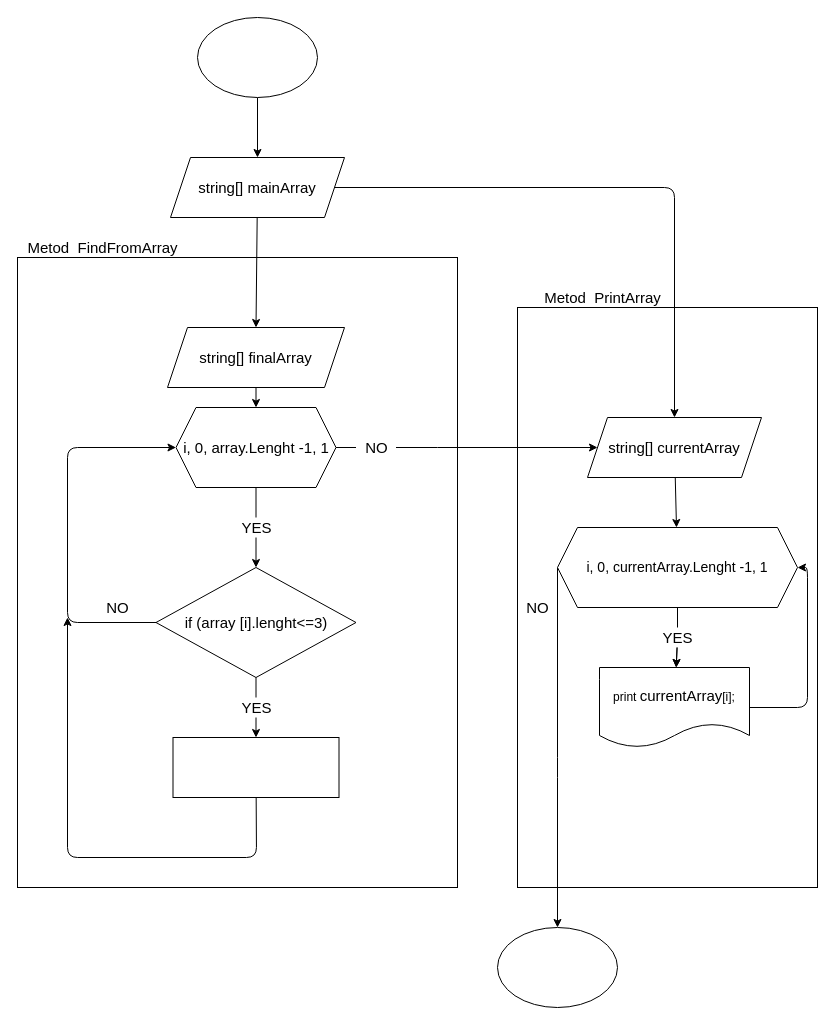
Some shapes in this 835 by 1025 pixel diagram are drawn without their labels. The centre of each missing label's shape, as x and y in pixels:
"finalArray[i] = array [i]" goes at pixel 255 767.
"Start" goes at pixel 257 57.
"Stop" goes at pixel 557 967.
